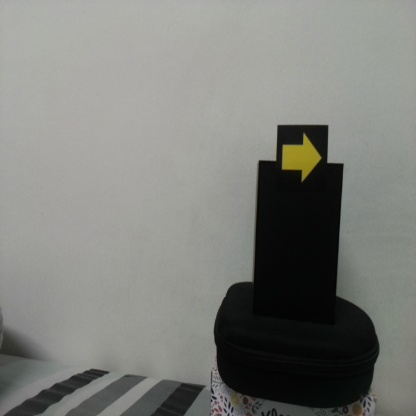id_3: (277, 126, 328, 189)
